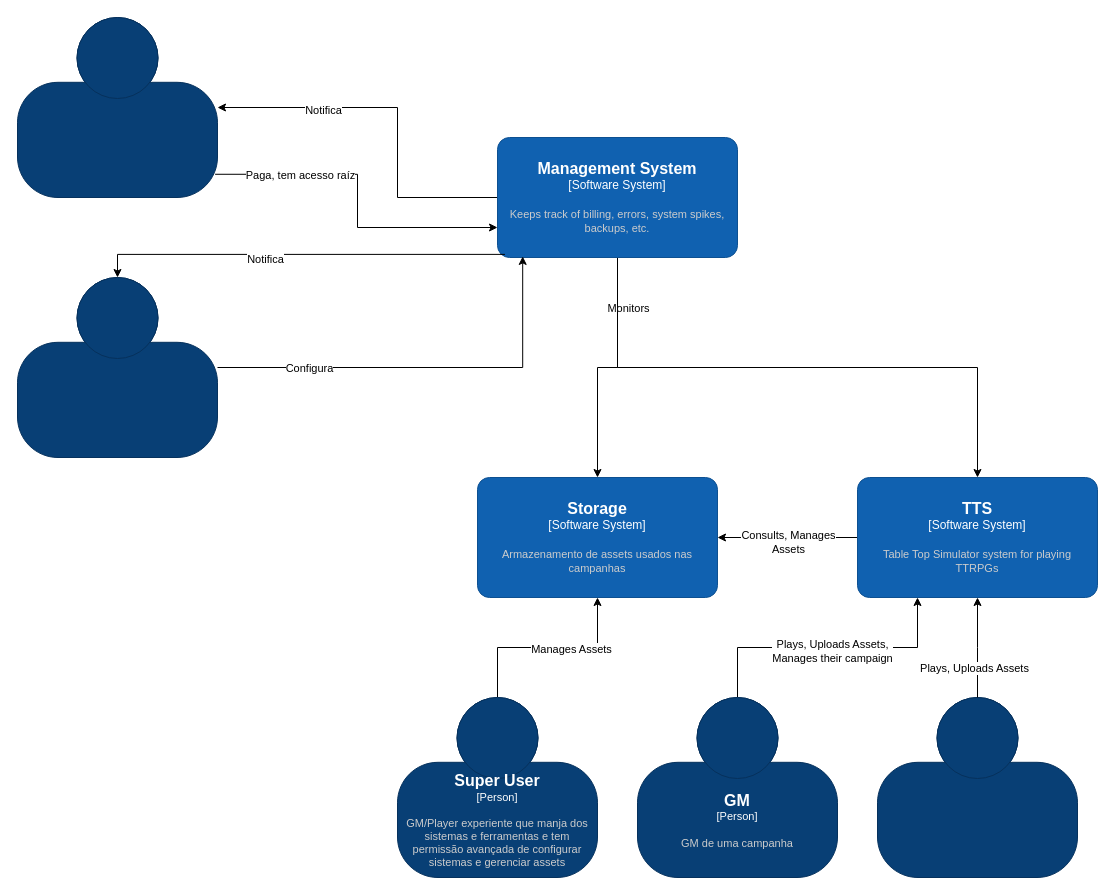
Image size: 1115x895. Some labels were removed from this diagram. The shapes that lost their labels are listed below. From the top down, each one's box as (x1, y1, x2, y2) in pixels, then its label:
(16, 16, 218, 198): Owner [Person] Moisés
(16, 276, 218, 458): Admin [Person] Ragan
(876, 696, 1078, 878): Player [Person] Player de uma campanha
